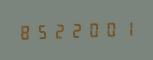eight: (17, 22, 33, 41)
five: (34, 21, 50, 40)
one: (119, 18, 135, 37)
two: (51, 20, 67, 40), (68, 20, 84, 39)
zero: (85, 19, 101, 39), (102, 19, 118, 38)
